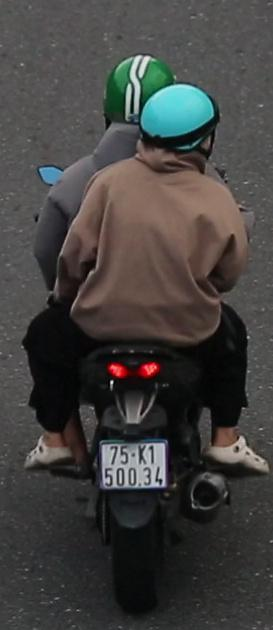LP: (94, 431, 176, 498)
helmet: (138, 78, 223, 163), (89, 40, 174, 125)
